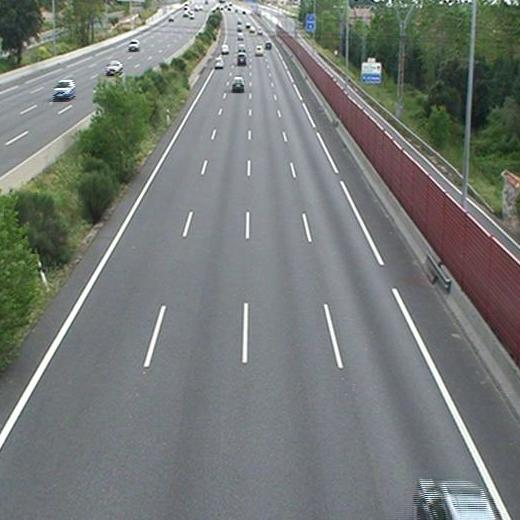car: (232, 77, 244, 90), (237, 53, 247, 64), (253, 46, 263, 56), (214, 58, 224, 68), (220, 45, 229, 53)
